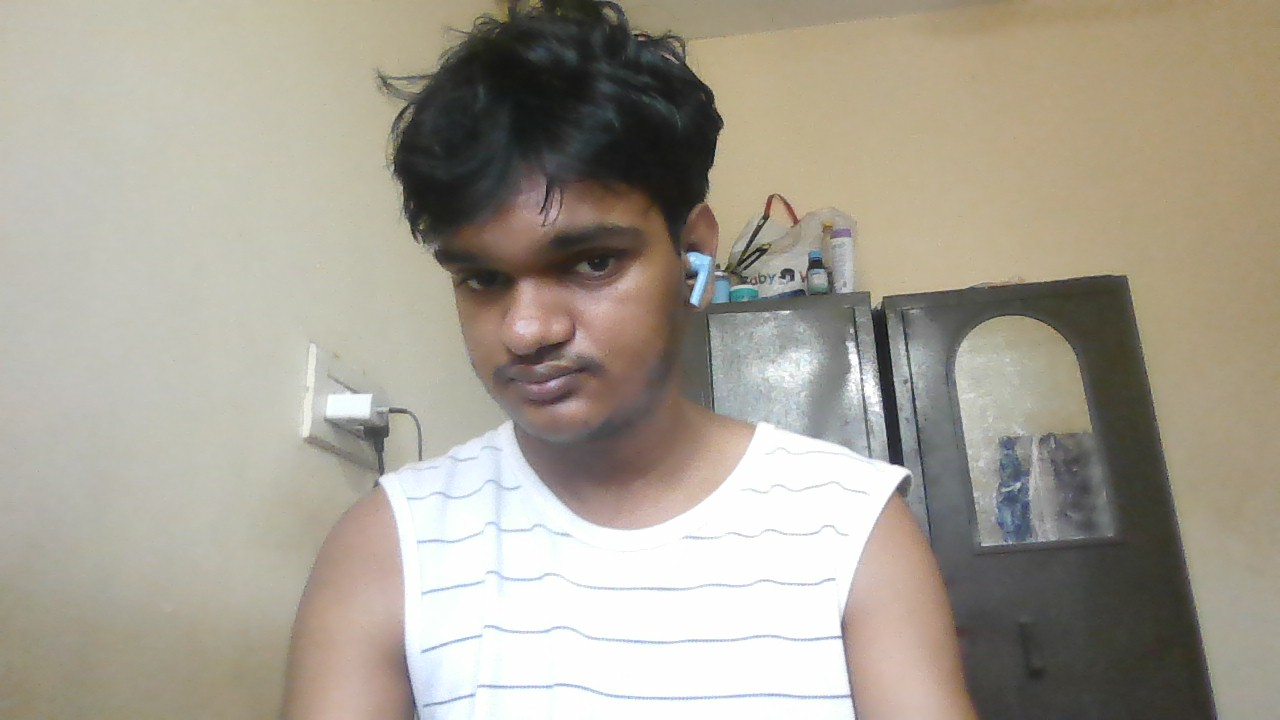earphone: (685, 247, 713, 303)
